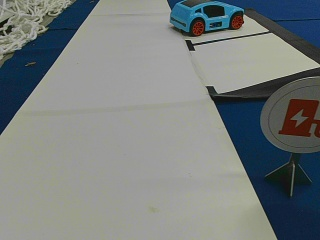battery: (260, 77, 319, 153)
car: (171, 1, 244, 34)
